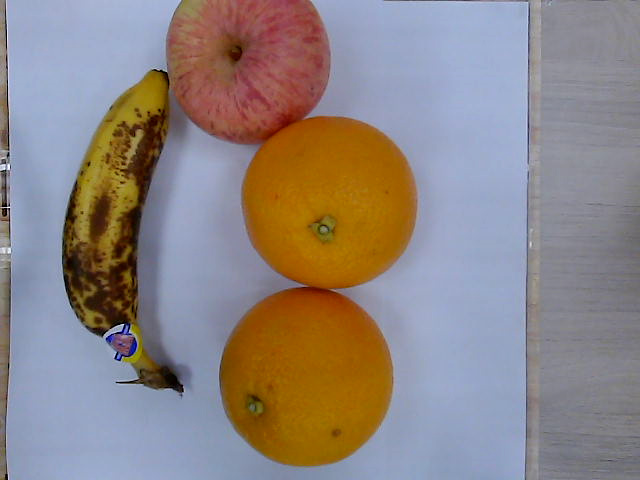fresh_apple: (167, 1, 331, 146)
fresh_orange: (240, 116, 417, 289), (220, 290, 393, 465)
rotten_banana: (63, 68, 187, 398)
